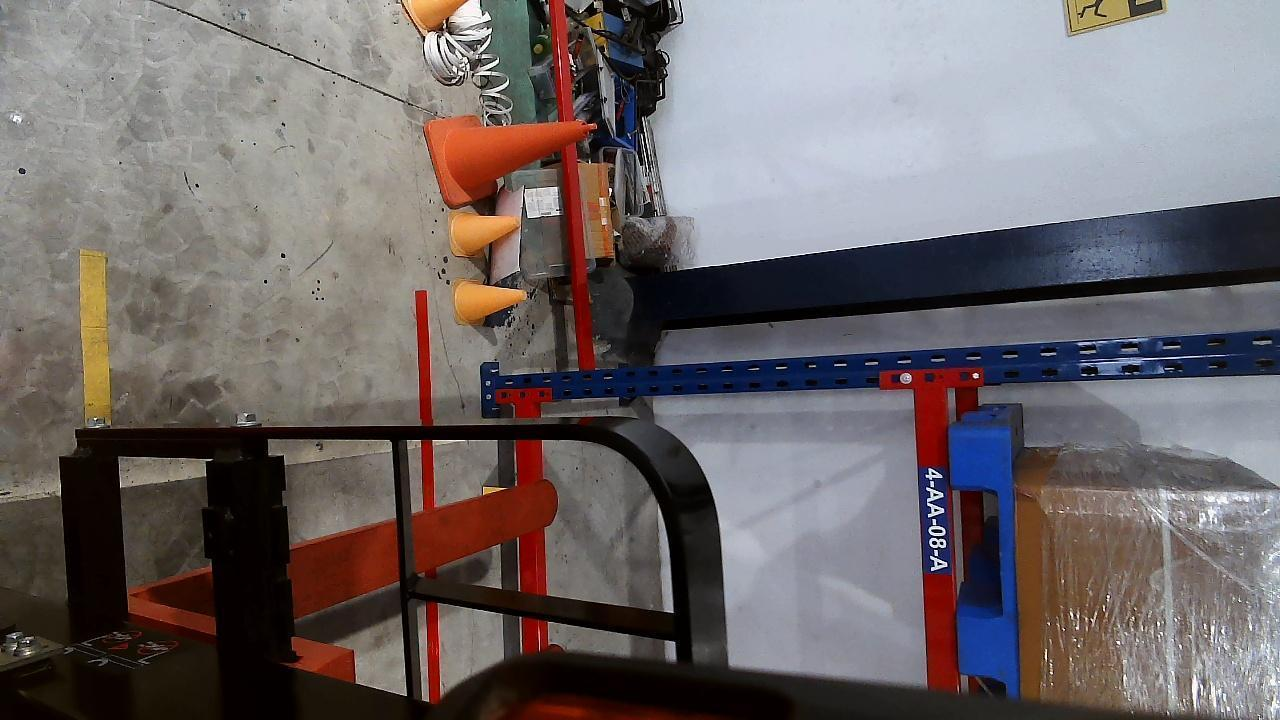red_line: (414, 289, 444, 702)
yellow_line: (78, 249, 111, 425)
